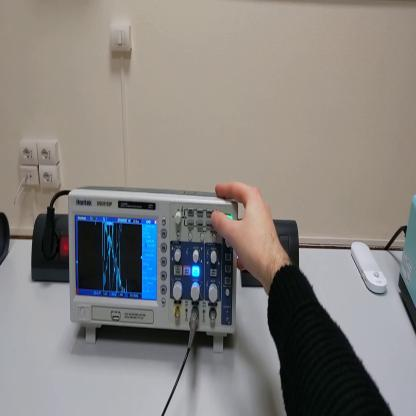hand: (211, 181, 283, 283)
oscilloscope: (70, 185, 239, 351)
socket: (29, 218, 70, 282), (2, 212, 11, 267)
welder station: (397, 195, 416, 333)
